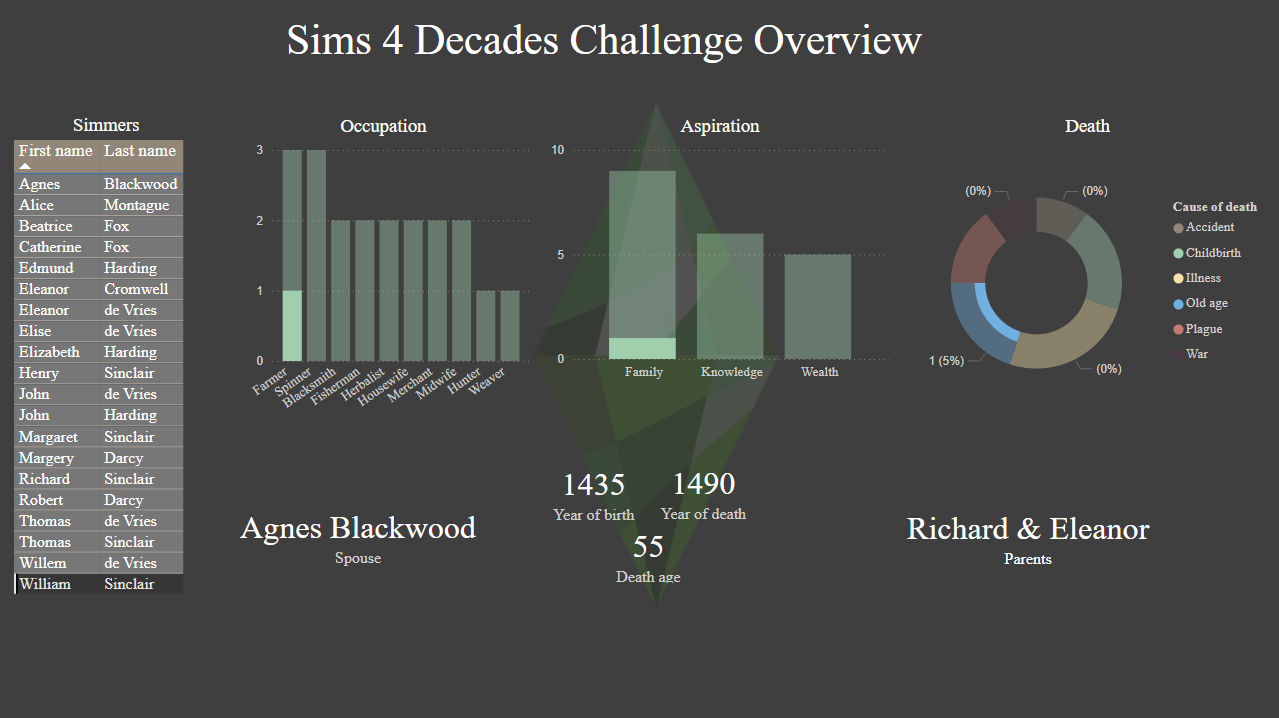

What the dashboard file says about the page in this screenshot:
{"tool":"powerbi","page":{"name":"Sims","canvas":[1280,720],"ordinal":0},"visuals":[{"type":"textbox","box":[282.6,14,659,72.9],"z":0},{"type":"tableEx","title":"Simmers","fields":{"Values":["Sims 4 Decades Challenge.First_name","Sims 4 Decades Challenge.Last_name"]},"box":[9.8,118.2,195.7,504.6],"z":1000},{"type":"donutChart","title":"Death","fields":{"Series":["New_death.Cause_of_Death"],"Y":["New_death.Updated_Death_Count"]},"box":[895.6,118.8,384.4,314.5],"z":2000},{"type":"columnChart","title":"Occupation","fields":{"Category":["Occupation.Occupation"],"Y":["Occupation.Aspiration_ID"]},"box":[233.9,118.3,302.1,314.6],"z":3000},{"type":"columnChart","title":"Aspiration","fields":{"Category":["Aspiration.Aspiration_ID"],"Y":["Aspiration.SimsID"]},"box":[546.1,118.8,349.5,272.6],"z":4000},{"type":"card","fields":{"Values":["Year_of_birth_and_death.Year_of_birth"]},"box":[540.9,449.8,107.1,88],"z":5000},{"type":"card","fields":{"Values":["Year_of_birth_and_death.Year_of_death"]},"box":[655.4,455.4,98.5,77.5],"z":6000},{"type":"card","fields":{"Values":["Year_of_birth_and_death.Death_age"]},"box":[594.5,521.2,110.8,70.2],"z":7000},{"type":"card","fields":{"Values":["Martial status.Married_to"]},"box":[224,492.3,271.4,90.5],"z":8000},{"type":"card","fields":{"Values":["Parents.Parents"]},"box":[878.8,497.8,299.7,80],"z":9000}]}

Visuals, with their boxes in screenshot pixels (x1, y1, x2, y2), scaled from the page's 1280x720 canvas onto the 1279x718 screenshot:
textbox: (282,14,941,87)
"Simmers" tableEx: (10,118,205,621)
"Death" donutChart: (895,118,1278,432)
"Occupation" columnChart: (234,118,536,432)
"Aspiration" columnChart: (546,118,895,390)
card - Year_of_birth_and_death.Year_of_birth: (540,449,647,536)
card - Year_of_birth_and_death.Year_of_death: (655,454,753,531)
card - Year_of_birth_and_death.Death_age: (594,520,705,590)
card - Martial status.Married_to: (224,491,495,581)
card - Parents.Parents: (878,496,1178,576)
